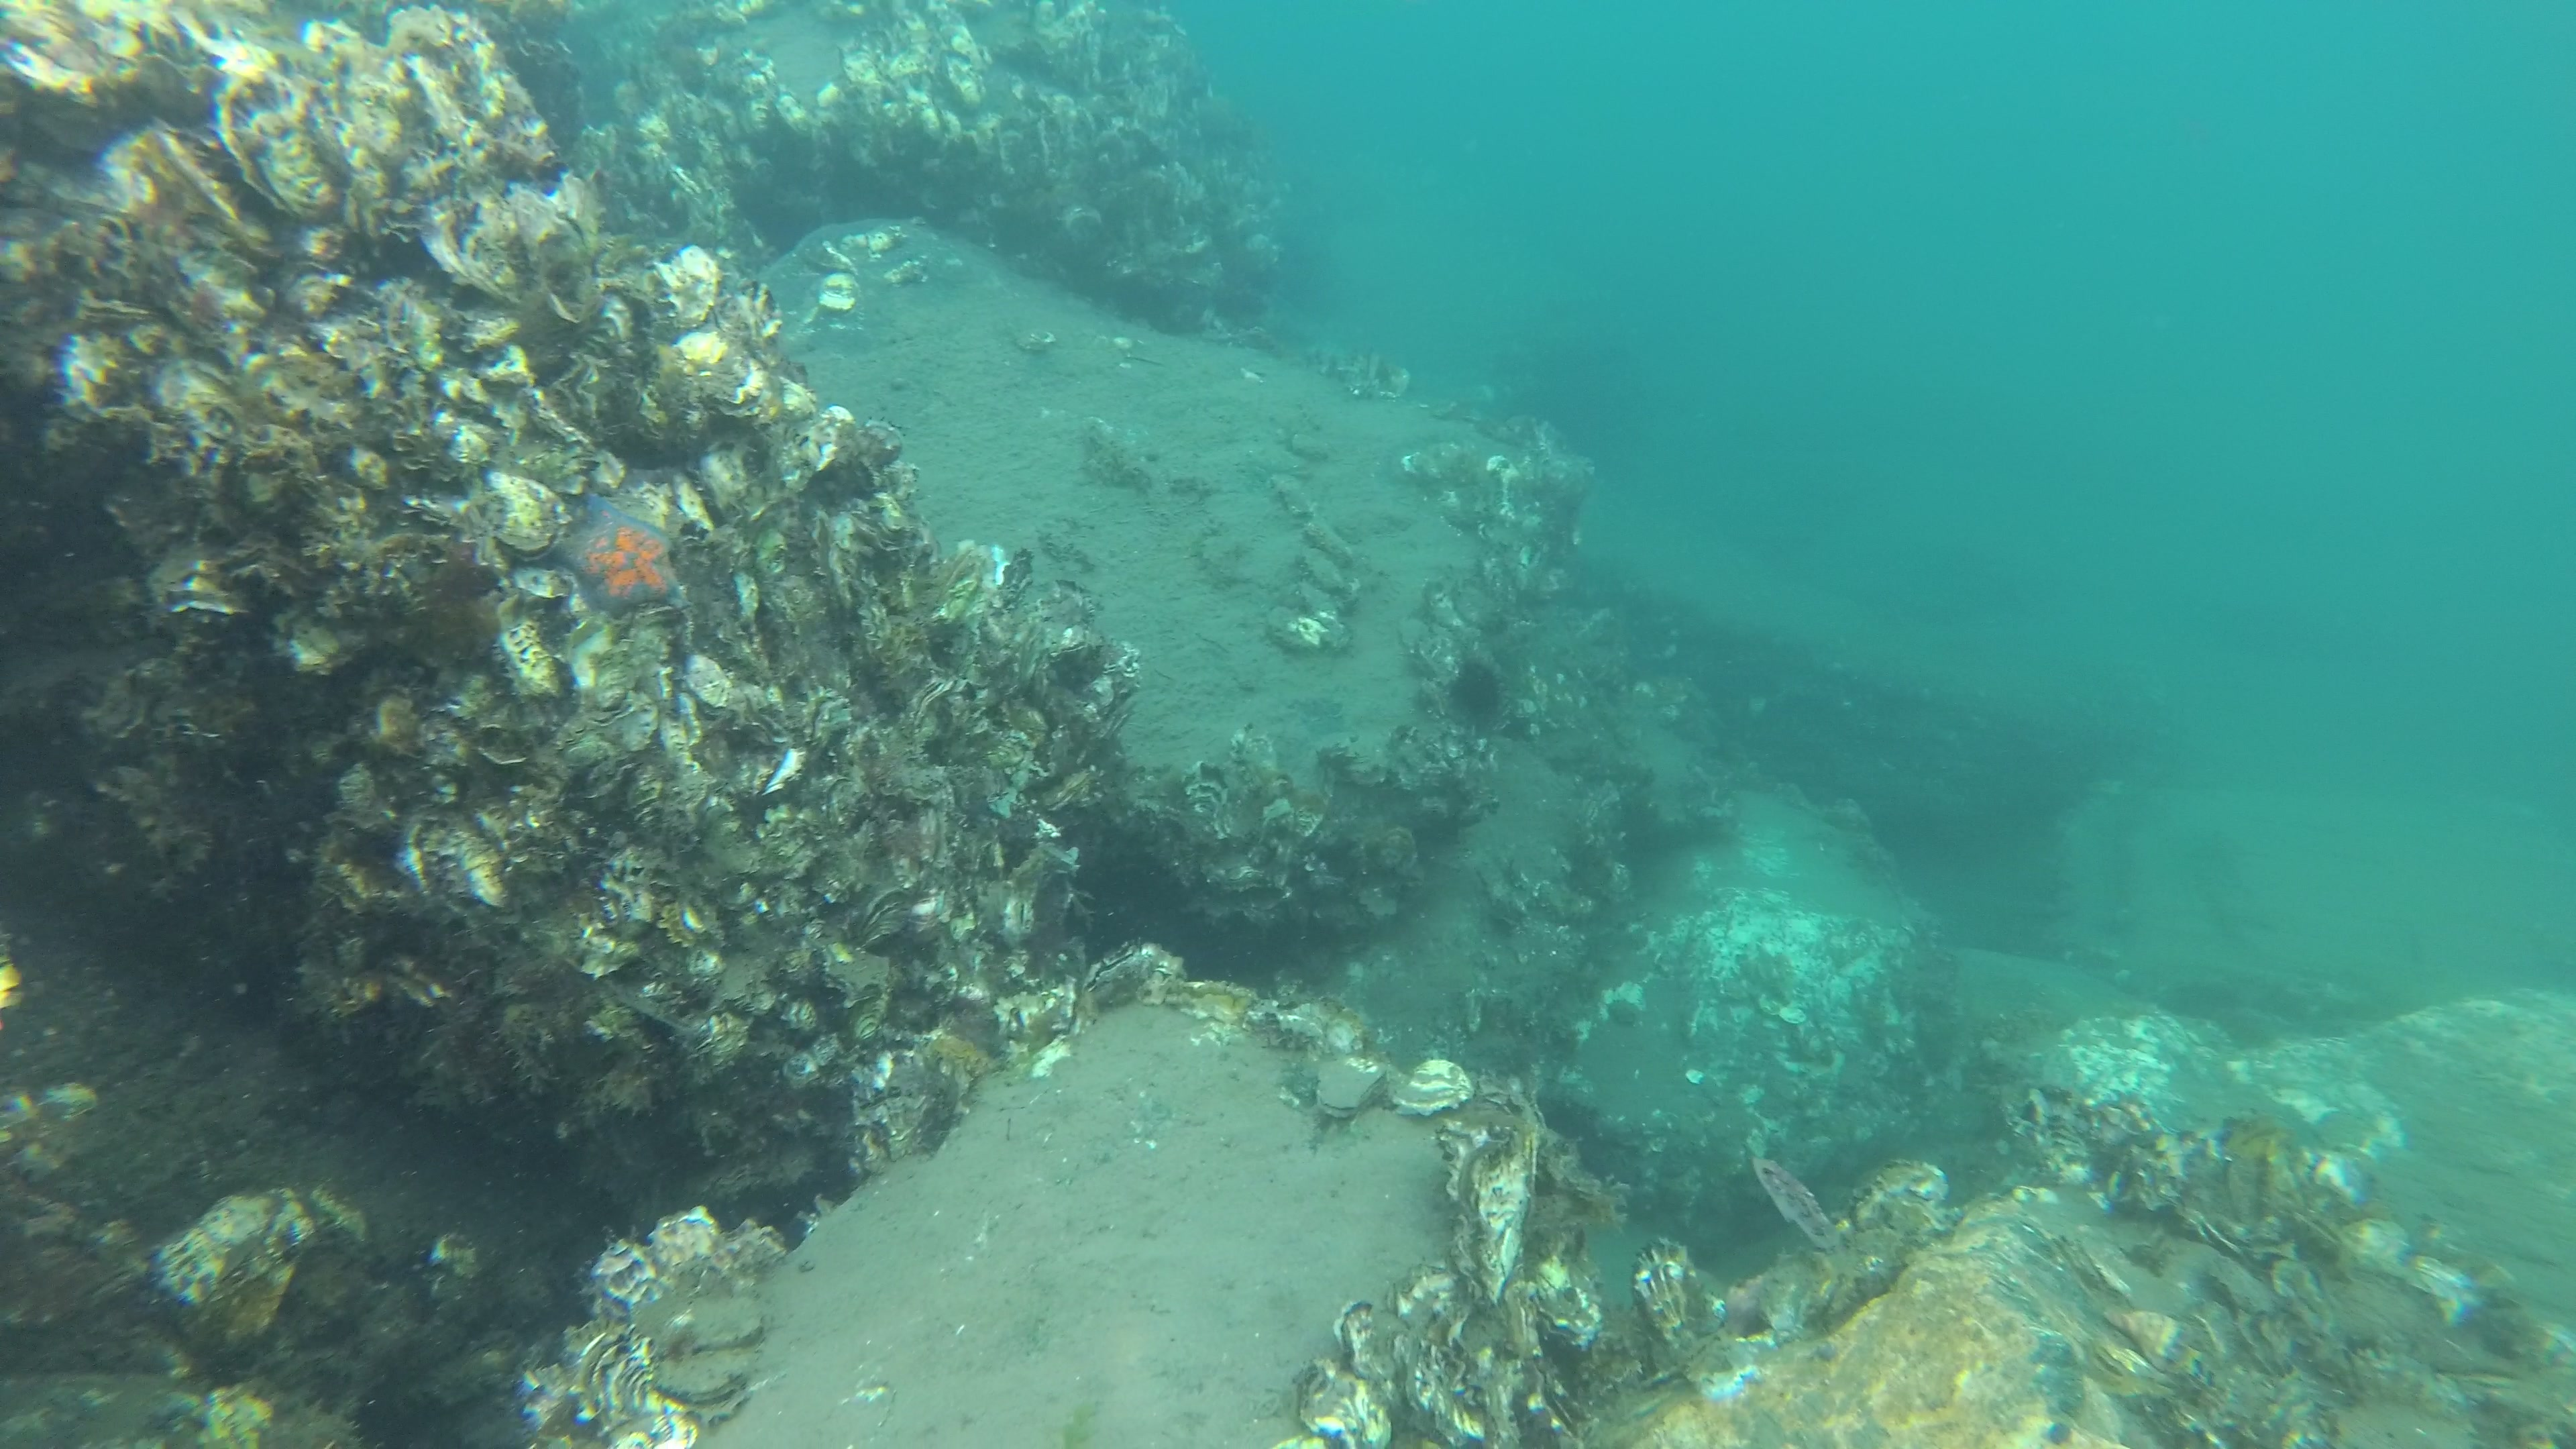echinus: (1440, 649, 1511, 731)
starfish: (541, 487, 690, 625)
